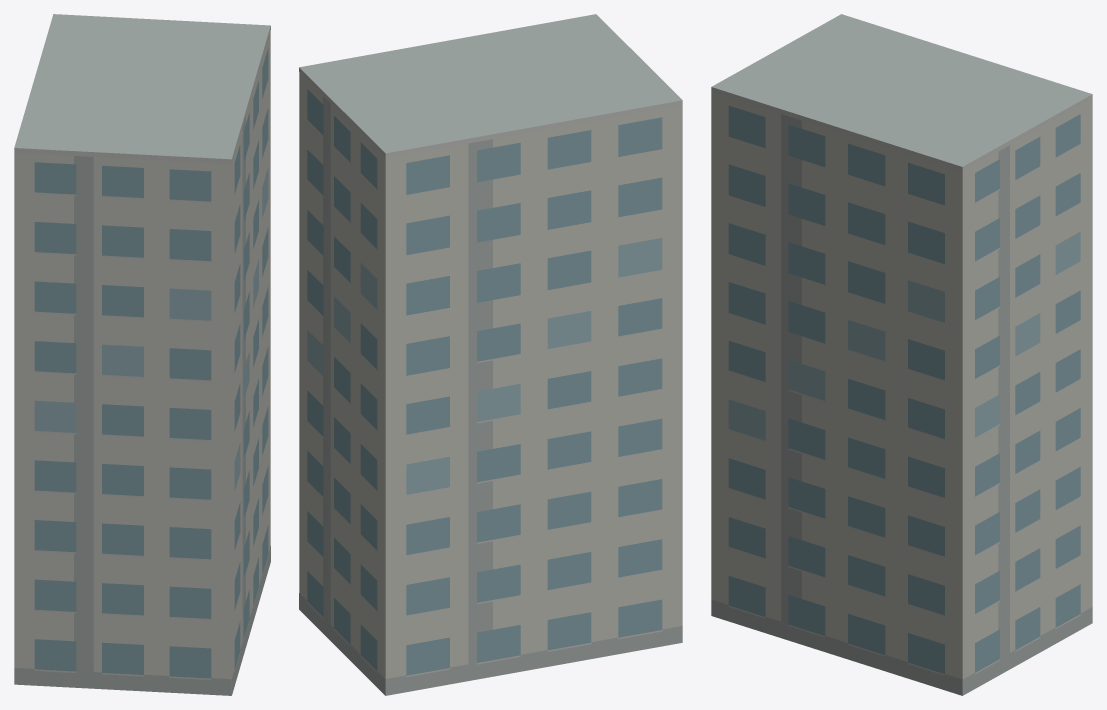
Rendered from residential-741996f5-fda3-426e-a5a9-5b197caf924e.glb.
3 renders of one model, left to right at view 1: azimuth 30°, elevation 25°; view 2: azimuth 150°, elevation 25°; view 3: azimuth 270°, elevation 25°, orthographic. The views are drawn at different scales.
Parts seen in each view (by area): view 1: residential-741996f5-fda3-426e-a5a9-5b197caf924e.tmp; view 2: residential-741996f5-fda3-426e-a5a9-5b197caf924e.tmp; view 3: residential-741996f5-fda3-426e-a5a9-5b197caf924e.tmp.
Part boxes in pixels (x1,y1,x2,y2): residential-741996f5-fda3-426e-a5a9-5b197caf924e.tmp: (14, 14, 270, 695); residential-741996f5-fda3-426e-a5a9-5b197caf924e.tmp: (299, 14, 682, 695); residential-741996f5-fda3-426e-a5a9-5b197caf924e.tmp: (711, 14, 1092, 695).
Size of the model in its own units: 16.75 by 27 by 17.65.
